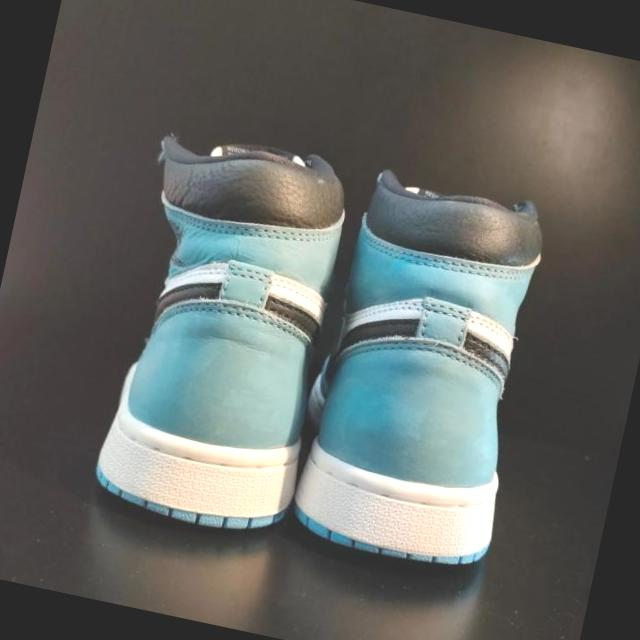nike_original_jordan: (80, 118, 362, 548), (275, 166, 561, 584)
